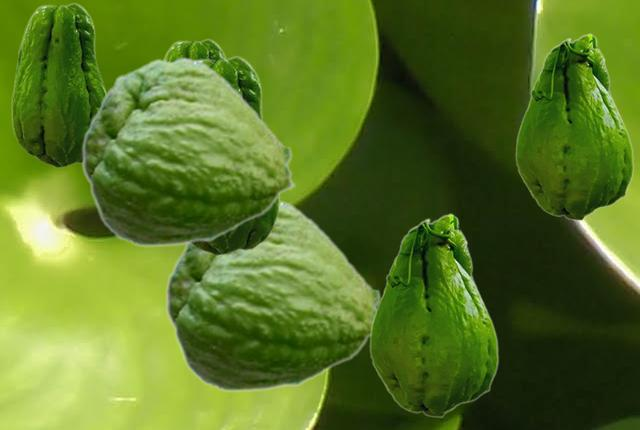sayote: (165, 197, 381, 392), (81, 56, 296, 247), (369, 213, 498, 417), (515, 33, 633, 220), (189, 55, 279, 255), (11, 2, 107, 167), (163, 38, 226, 60)
